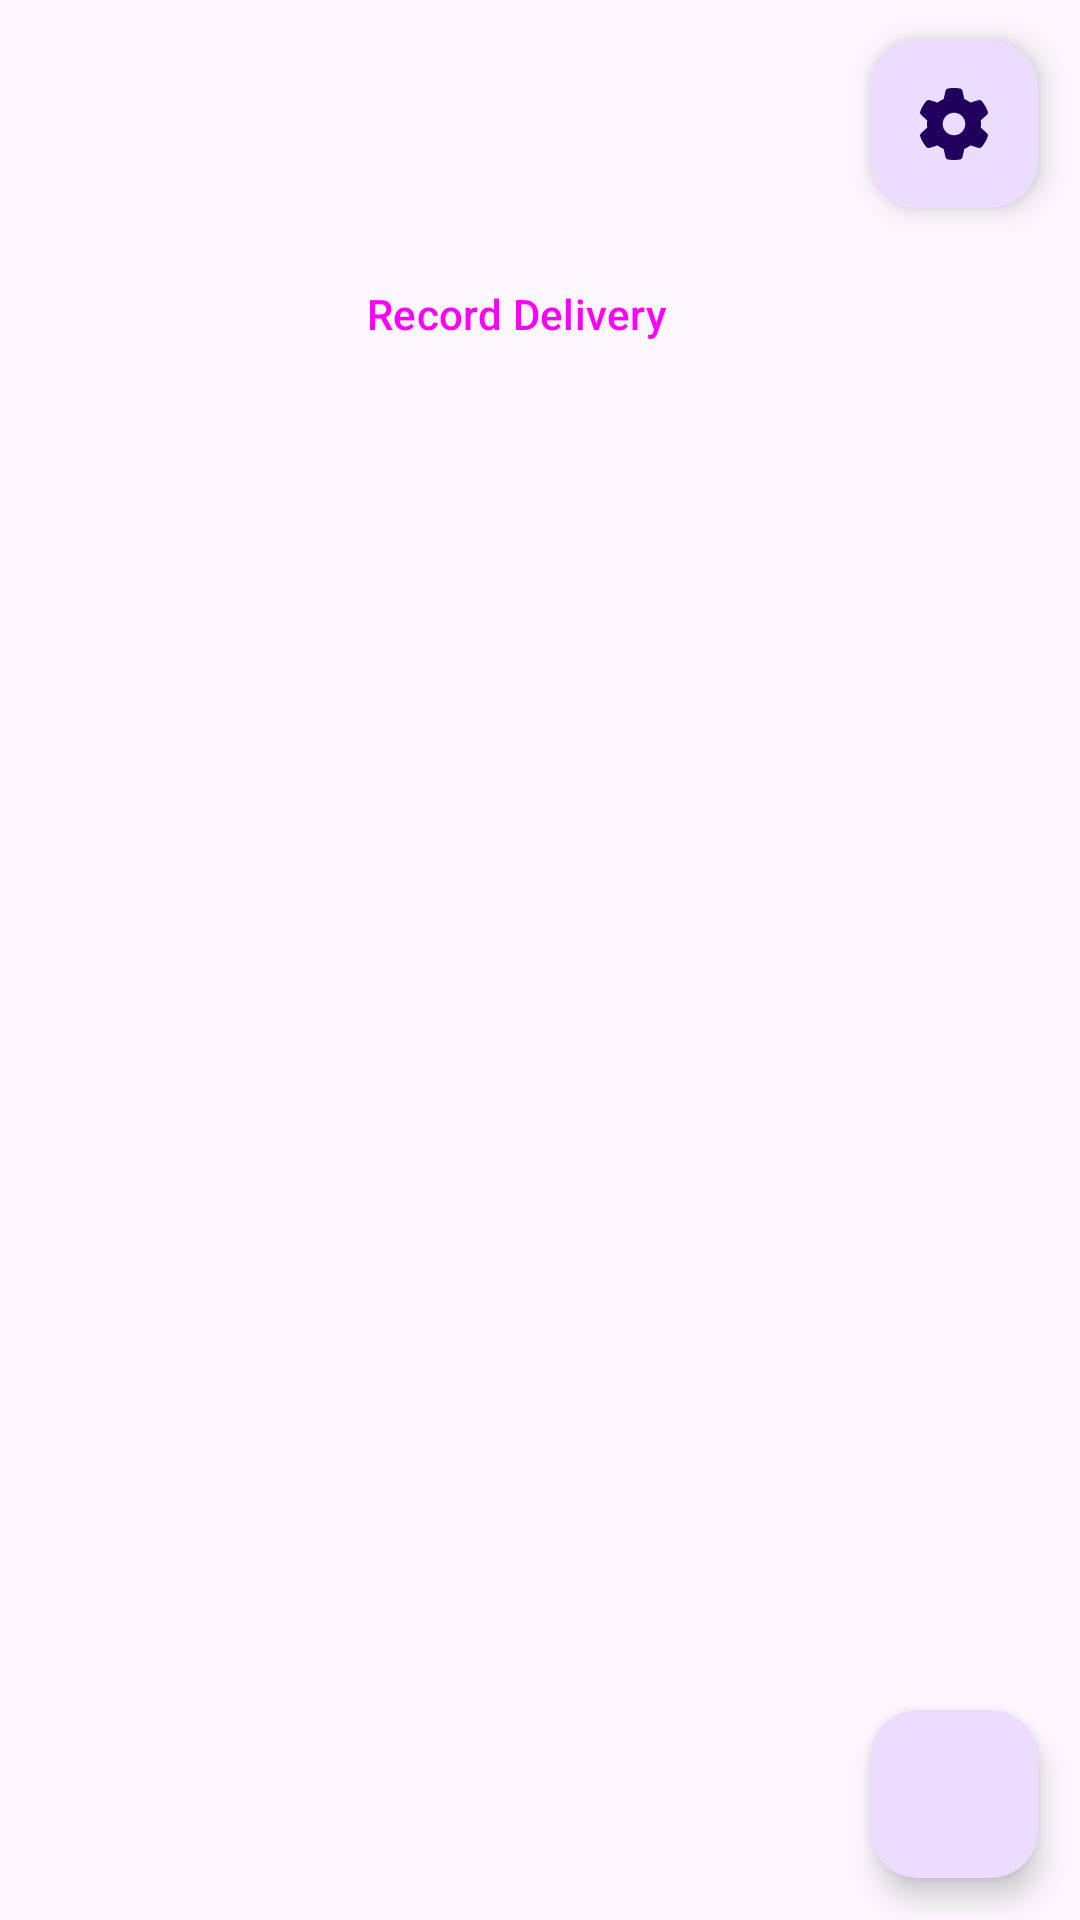

Icons on this 1080*1920 Android screen, each with its box as (x1=x1, y1=y1, x2=x2, y2=y2):
gear: (x1=920, y1=88, x2=988, y2=160)
